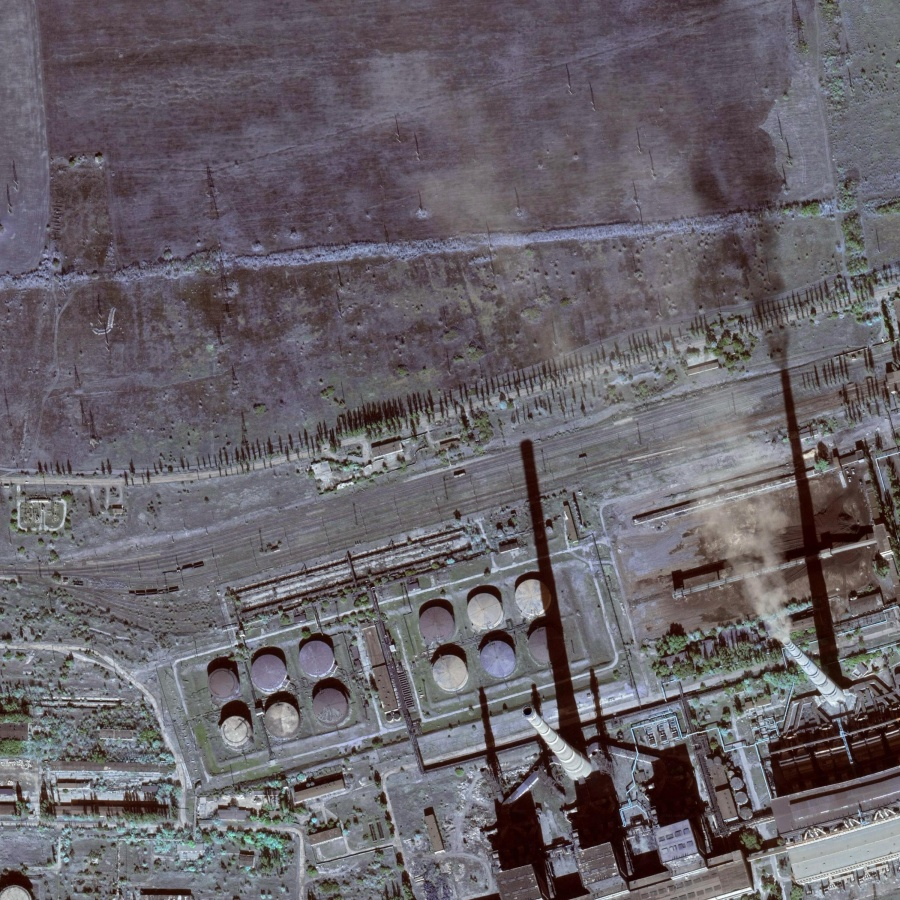PowerPlant: (170, 610, 377, 786)
